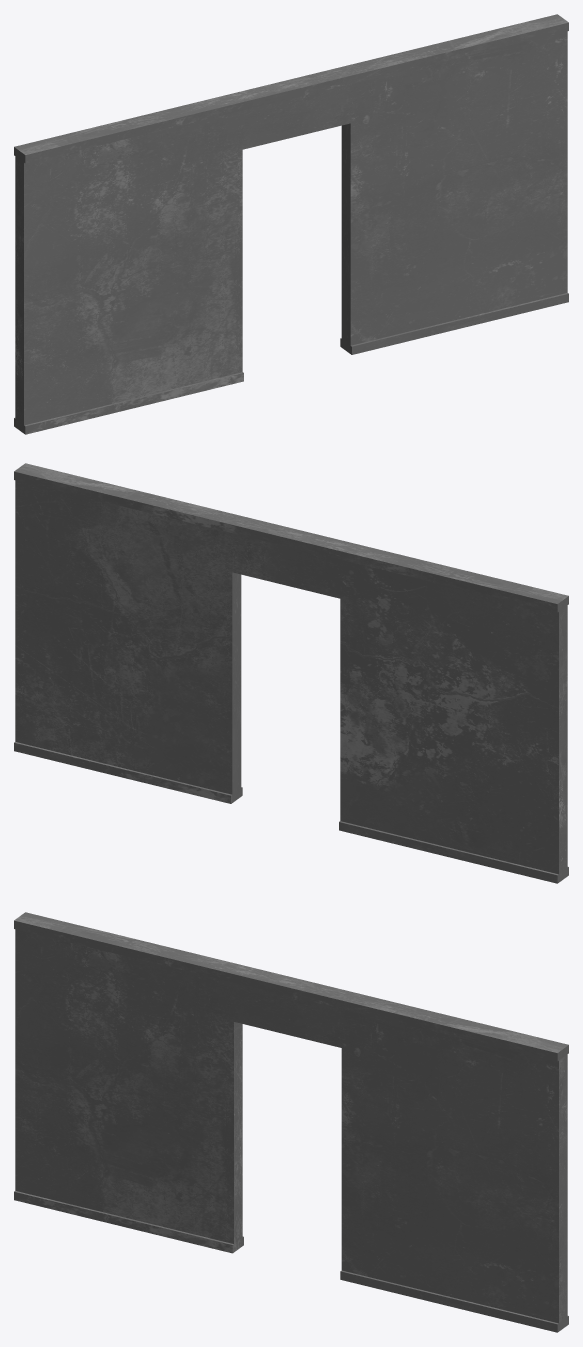
File: WALL BASEMENT 3.fbx
3 views of the same model, one above another, from view 1: azimuth 30°, elevation 25°; view 2: azimuth 150°, elevation 25°; view 3: azimuth 330°, elevation 25° (orthographic).
Visible parts, largest first — view 1: WALL BASEMENT 3; view 2: WALL BASEMENT 3; view 3: WALL BASEMENT 3.
Boxes of the visible parts, x1=… form: WALL BASEMENT 3: x1=14, y1=14, x2=568, y2=434; WALL BASEMENT 3: x1=14, y1=463, x2=568, y2=883; WALL BASEMENT 3: x1=14, y1=912, x2=568, y2=1332.
Bounding box in the file's own units: 5.33 × 2.62 × 0.1936.
